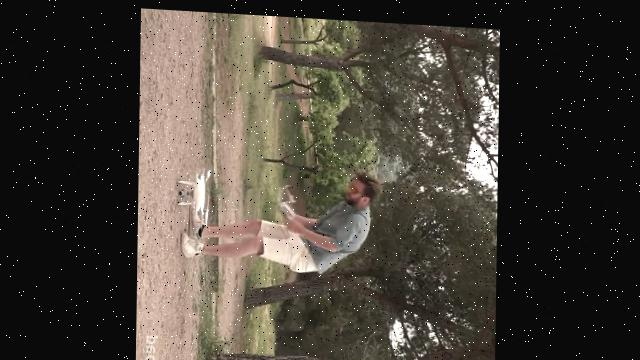drone: (176, 163, 216, 224)
